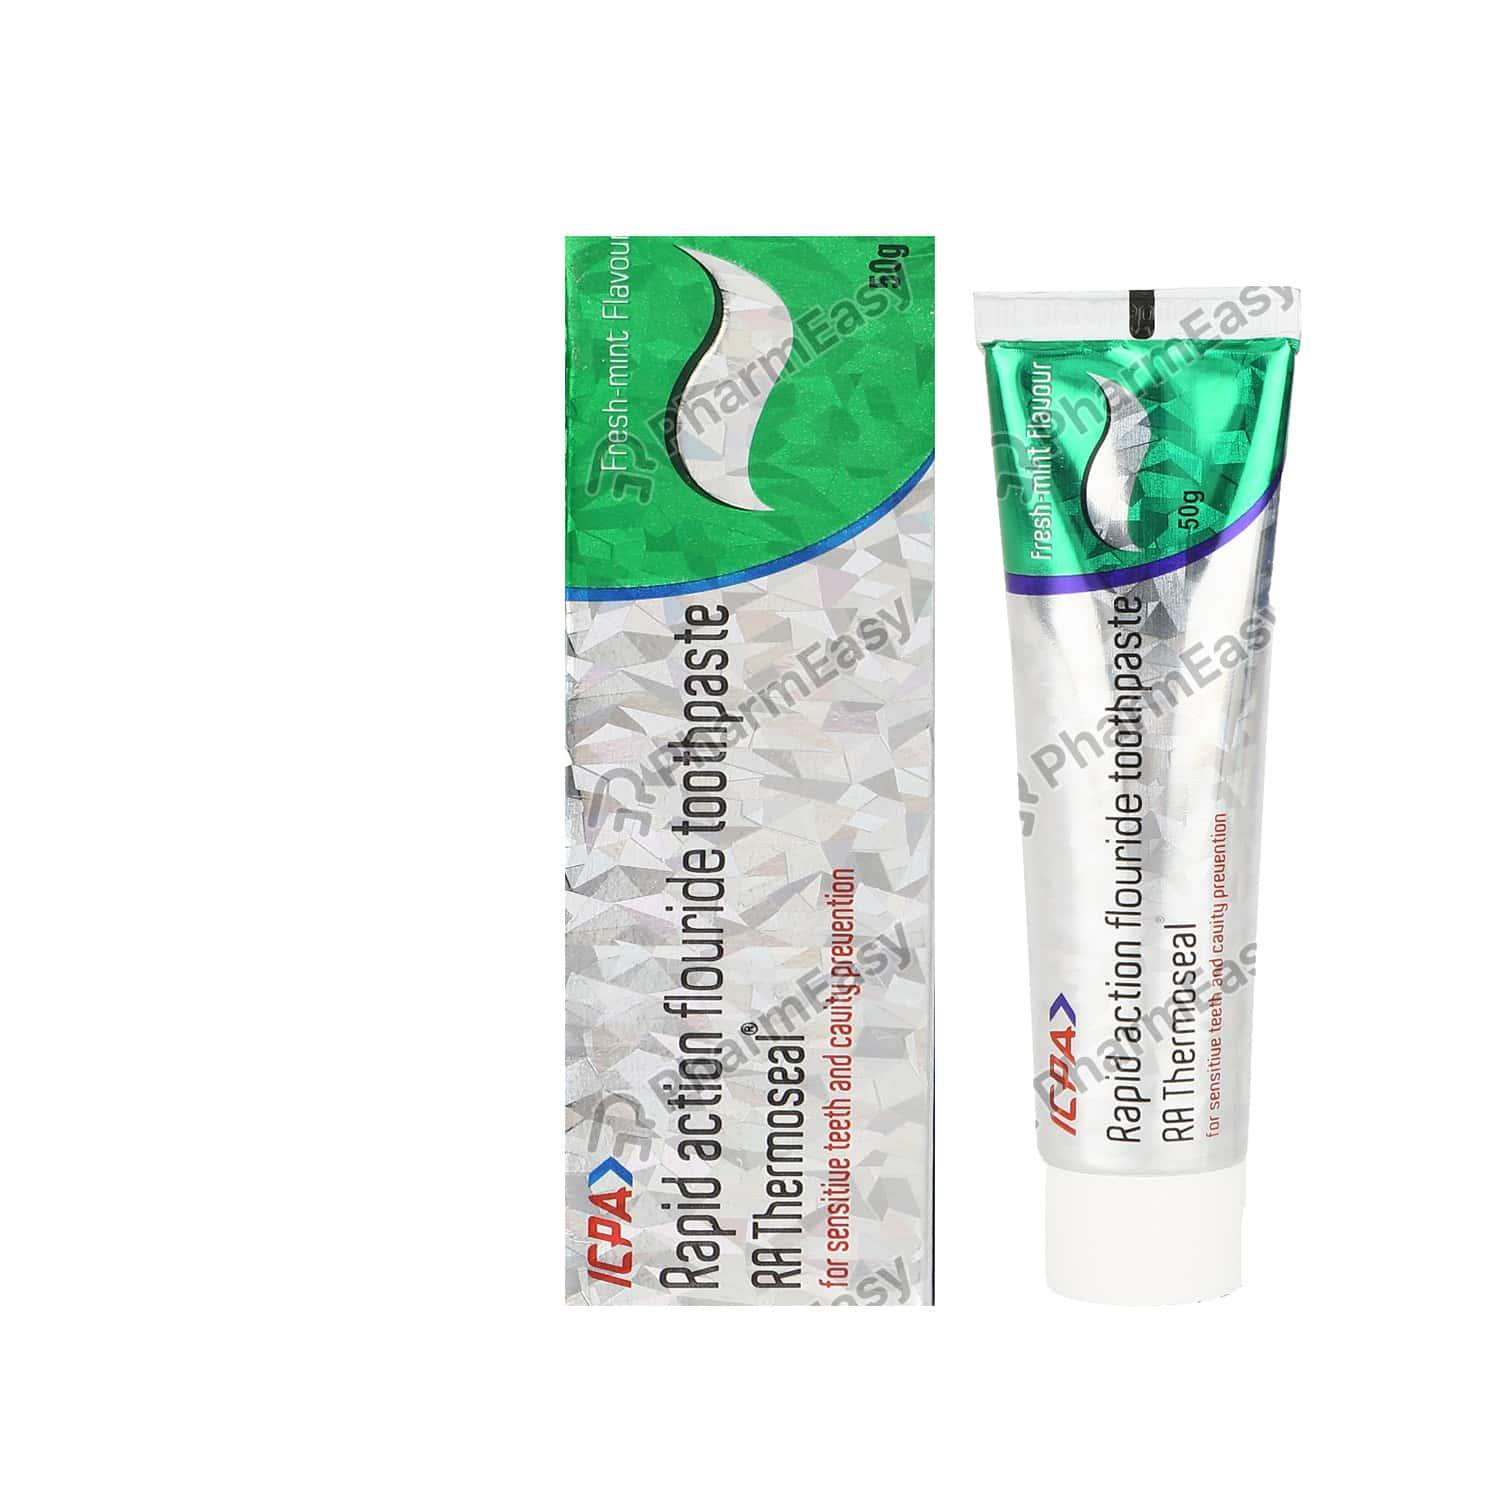toothpaste: (552, 214, 971, 1313), (995, 243, 1393, 1332)
